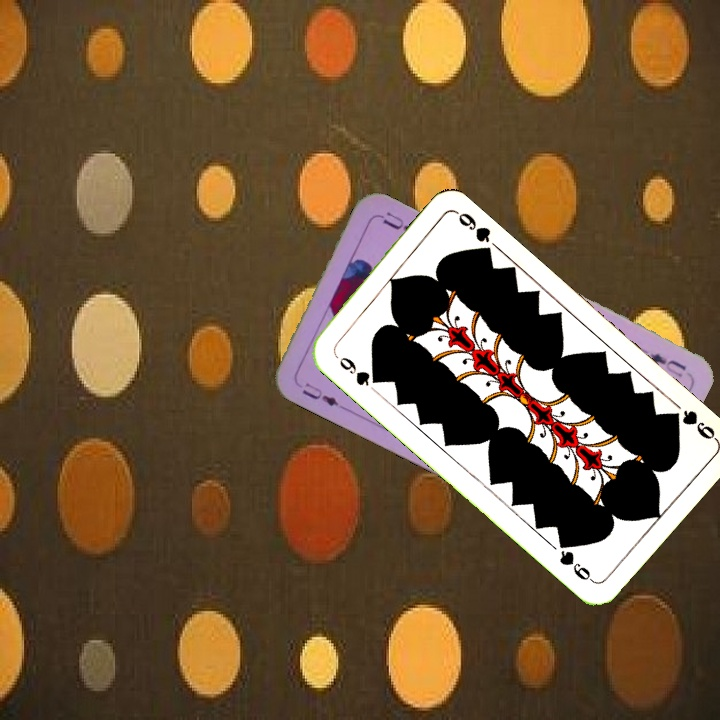EU: (297, 378, 342, 409), (645, 349, 689, 380)
G9: (663, 406, 719, 443), (335, 353, 383, 389)
